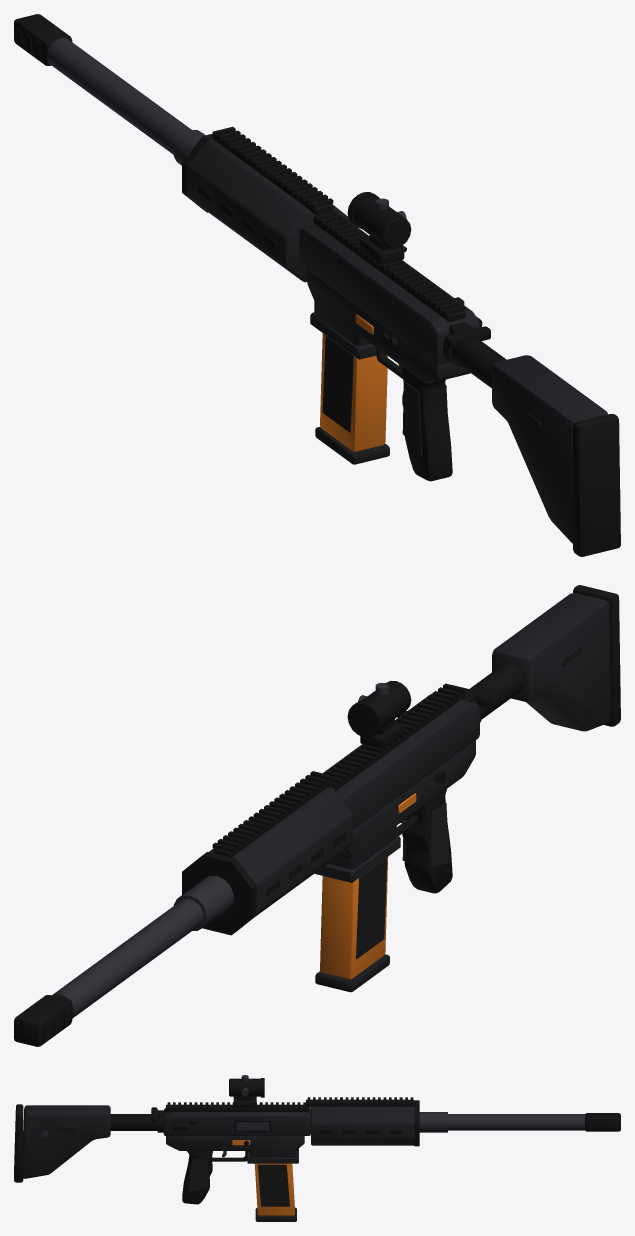
The model's file is gun_22.glb.
3 renders of one model, top to bottom at view 1: azimuth 30°, elevation 25°; view 2: azimuth 150°, elevation 25°; view 3: azimuth 270°, elevation 25°, orthographic. The views are drawn at different scales.
Visible parts, largest first — view 1: gun_22; view 2: gun_22; view 3: gun_22.
Boxes of the visible parts, left/top/right/bottom form: gun_22: left=14, top=14, right=620, bottom=556; gun_22: left=14, top=585, right=620, bottom=1046; gun_22: left=14, top=1075, right=620, bottom=1221.
Bounding box in the file's own units: 0.0827 × 0.3015 × 1.17.
